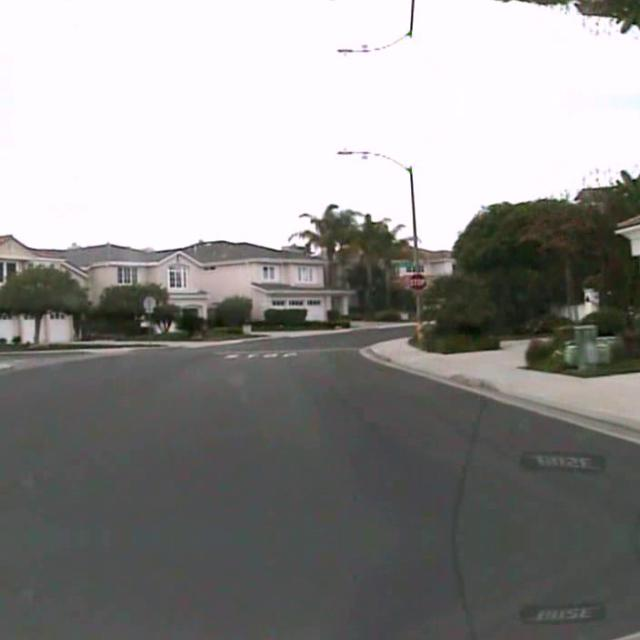stop: (407, 271, 427, 291)
